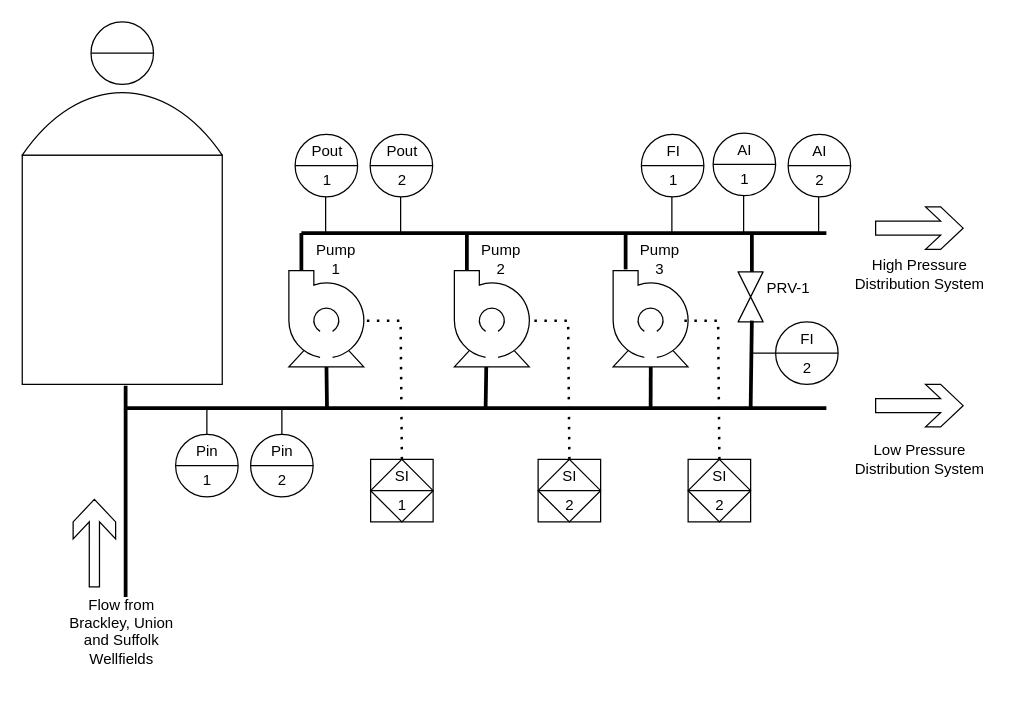
Some shapes in this 1023 by 708 pixel diagram are drawn without their labels. Here are the shapes that lost their labels. From the top down, the centre of each, then its label:
the point at 122,52: LI 1
the point at 121,227: Reservoir
